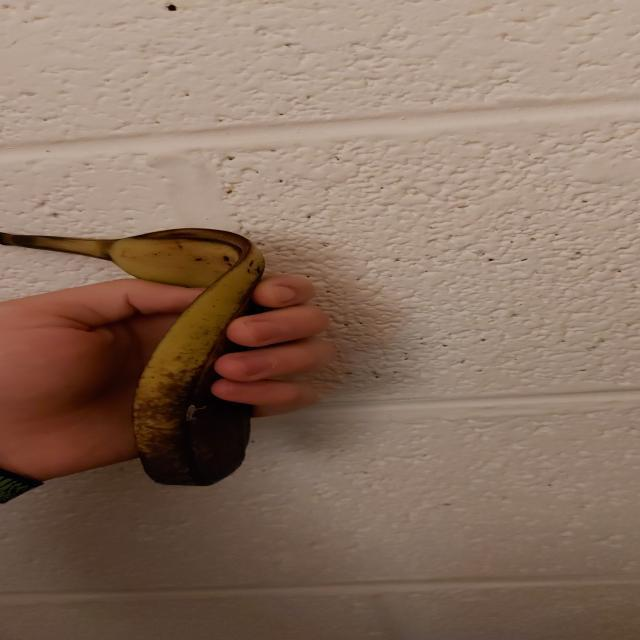banana-peel: (1, 225, 266, 487)
